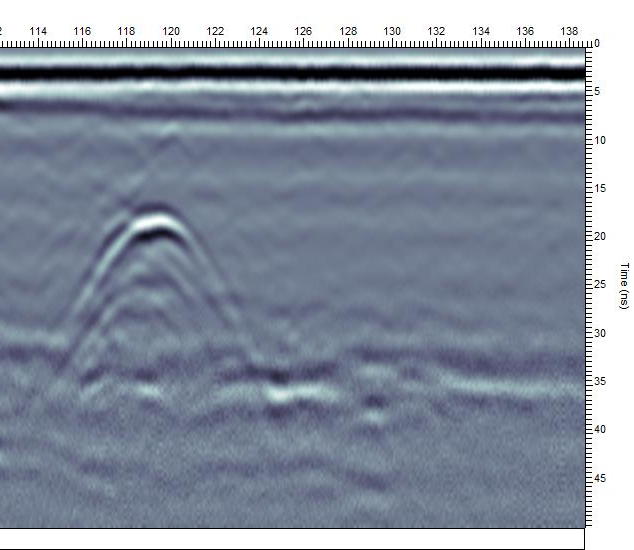hyperbola: (45, 198, 261, 415)
